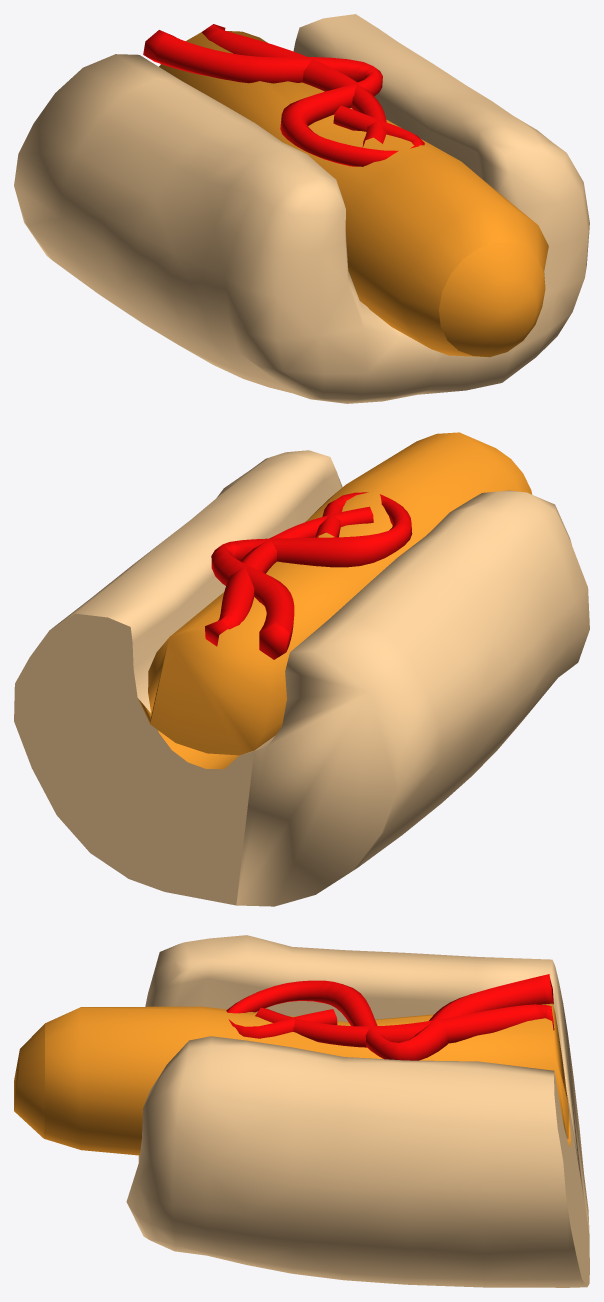
File: HalfHotDog.fbx
The picture shows the model from 3 angles, top to bottom: view 1: azimuth 30°, elevation 25°; view 2: azimuth 150°, elevation 25°; view 3: azimuth 270°, elevation 25°; orthographic projection. The views are drawn at different scales.
Parts seen in each view (by area): view 1: hotdog; view 2: hotdog; view 3: hotdog.
Boxes of the visible parts, box(x1,y1,x2,y2) form: hotdog: box(14, 14, 589, 403); hotdog: box(14, 432, 589, 906); hotdog: box(14, 935, 589, 1287).
Bounding box in the file's own units: 3 × 2.17 × 1.53.
